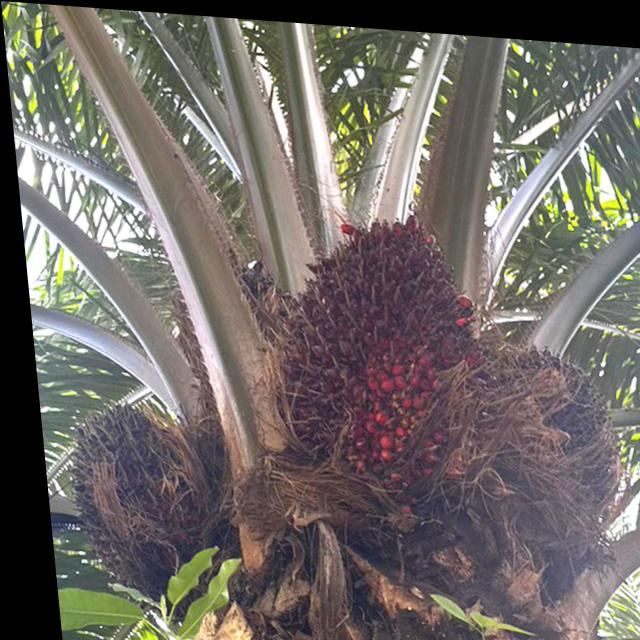ripe: (246, 197, 491, 490), (437, 326, 625, 556), (45, 383, 206, 591)
